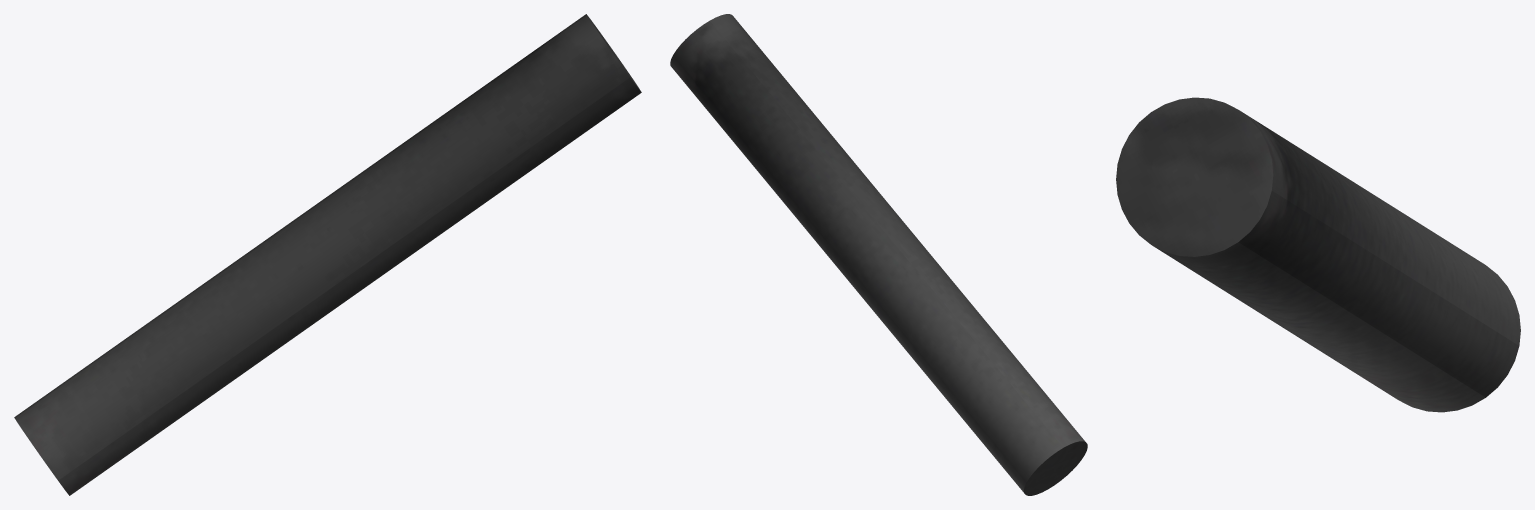
File: frame__support_brace_1.glb
3 renders of one model, left to right at view 1: azimuth 30°, elevation 25°; view 2: azimuth 150°, elevation 25°; view 3: azimuth 270°, elevation 25°, orthographic. The views are drawn at different scales.
Visible parts, largest first — view 1: world; view 2: world; view 3: world.
Boxes of the visible parts, x1,y1,x2,y2 form: world: (14,14,641,495); world: (670,14,1087,495); world: (1116,97,1520,412).
Size of the model in its own units: 0.1698 by 0.122 by 0.0654.
1 material, 1 textured.
